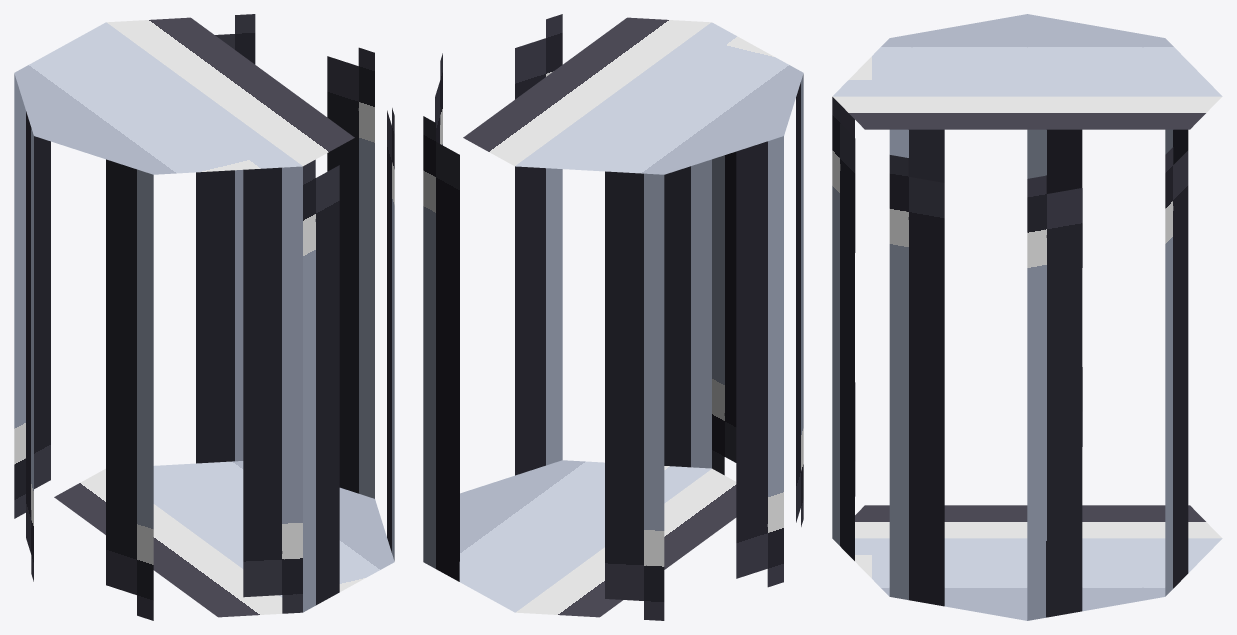
File: wind_gen_pillar.obj
The picture shows the model from 3 angles, left to right: view 1: azimuth 30°, elevation 25°; view 2: azimuth 150°, elevation 25°; view 3: azimuth 270°, elevation 25°; orthographic projection.
Bounding box in the file's own units: 0.8 × 1 × 0.8.
